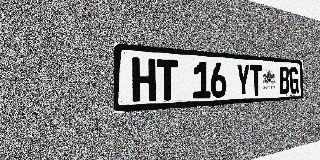1: (193, 61, 210, 99)
6: (210, 62, 226, 98)
B: (279, 66, 290, 94)
G: (289, 67, 299, 94)
H: (132, 57, 156, 102)
T: (156, 59, 178, 101), (250, 64, 262, 96)
Y: (236, 64, 250, 97)
